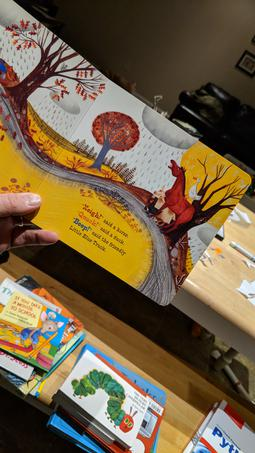text block: (60, 199, 133, 261)
